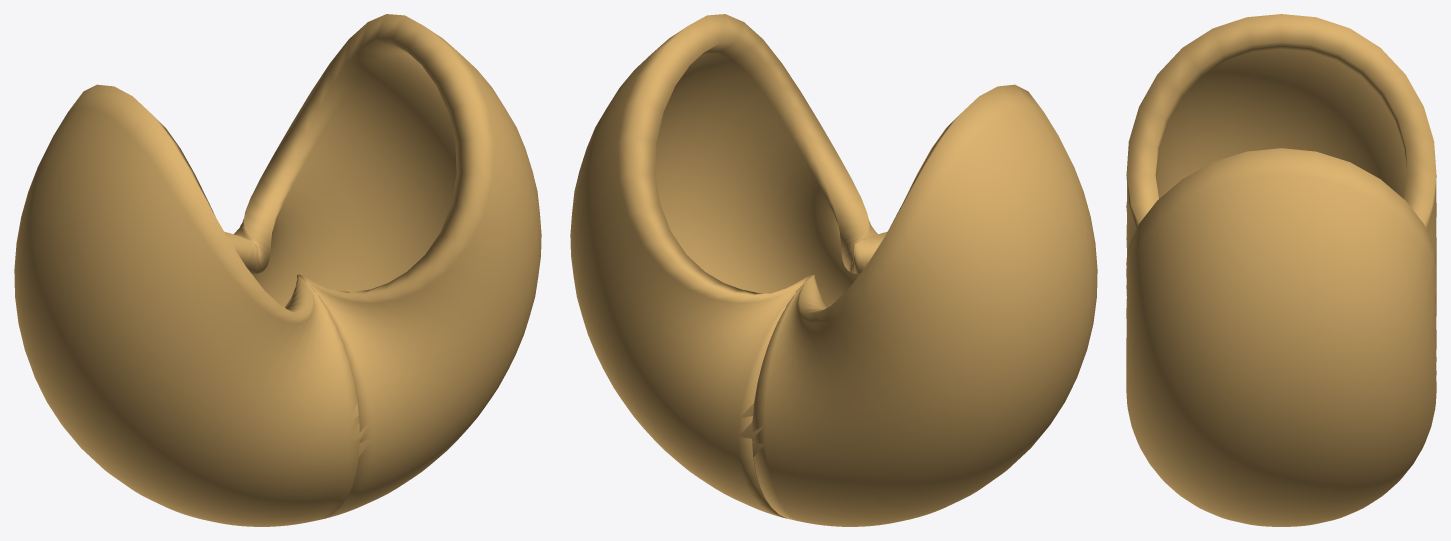
File: fortune-cookie.glb
The picture shows the model from 3 angles, left to right: view 1: azimuth 30°, elevation 25°; view 2: azimuth 150°, elevation 25°; view 3: azimuth 270°, elevation 25°; orthographic projection. The views are drawn at different scales.
Visible parts, largest first — view 1: HalfL, HalfR, Whole; view 2: HalfL, HalfR, Whole; view 3: HalfR, HalfL.
Part boxes in pixels (box(x1,y1,x2,y2)): HalfL: box(14, 84, 359, 526); HalfR: box(234, 14, 541, 518); Whole: box(247, 239, 373, 517); HalfL: box(752, 84, 1097, 526); HalfR: box(570, 14, 877, 518); Whole: box(739, 236, 870, 517); HalfR: box(1126, 148, 1436, 526); HalfL: box(1126, 14, 1436, 382).
Size of the model in its own units: 1 by 0.8957 by 0.5974.
